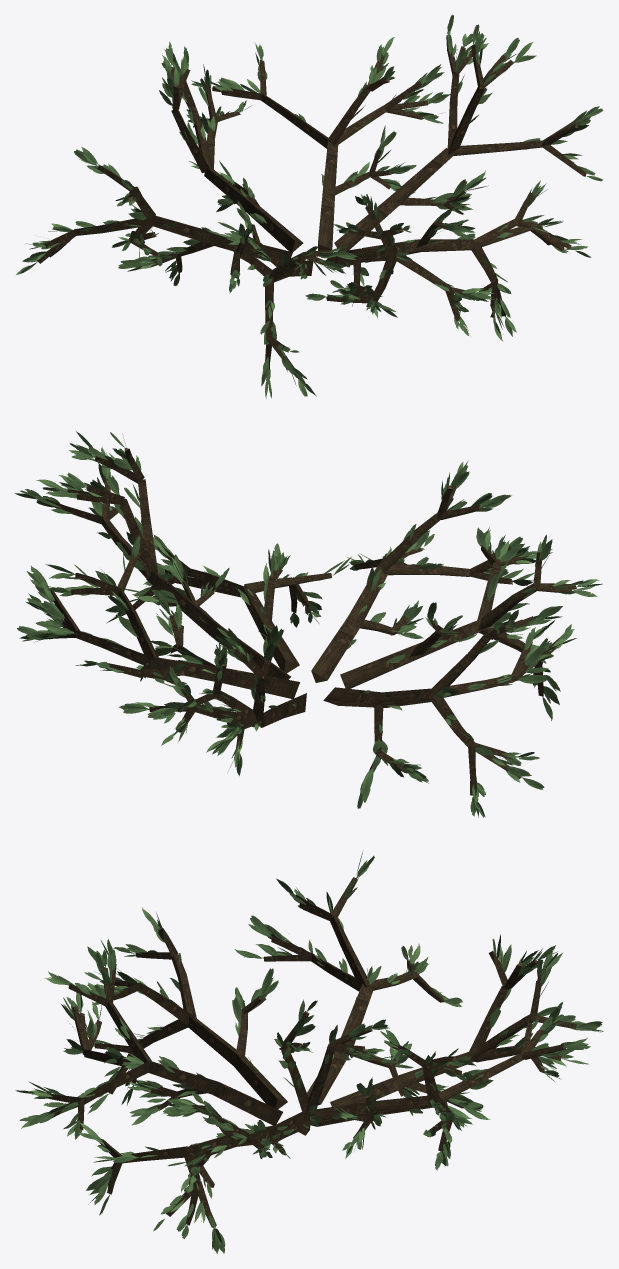
Rendered from juniper_low_v02_LOD1.fbx.
3 renders of one model, top to bottom at view 1: azimuth 30°, elevation 25°; view 2: azimuth 150°, elevation 25°; view 3: azimuth 270°, elevation 25°, orthographic. The views are drawn at different scales.
Visible parts, largest first — view 1: juniper_low_v02_LOD1; view 2: juniper_low_v02_LOD1; view 3: juniper_low_v02_LOD1.
Boxes of the visible parts, x1,y1,x2,y2 form: juniper_low_v02_LOD1: (16,14,602,398); juniper_low_v02_LOD1: (14,431,602,817); juniper_low_v02_LOD1: (15,850,603,1253).
Size of the model in its own units: 167 by 73.36 by 147.
2 materials, 2 textured.
